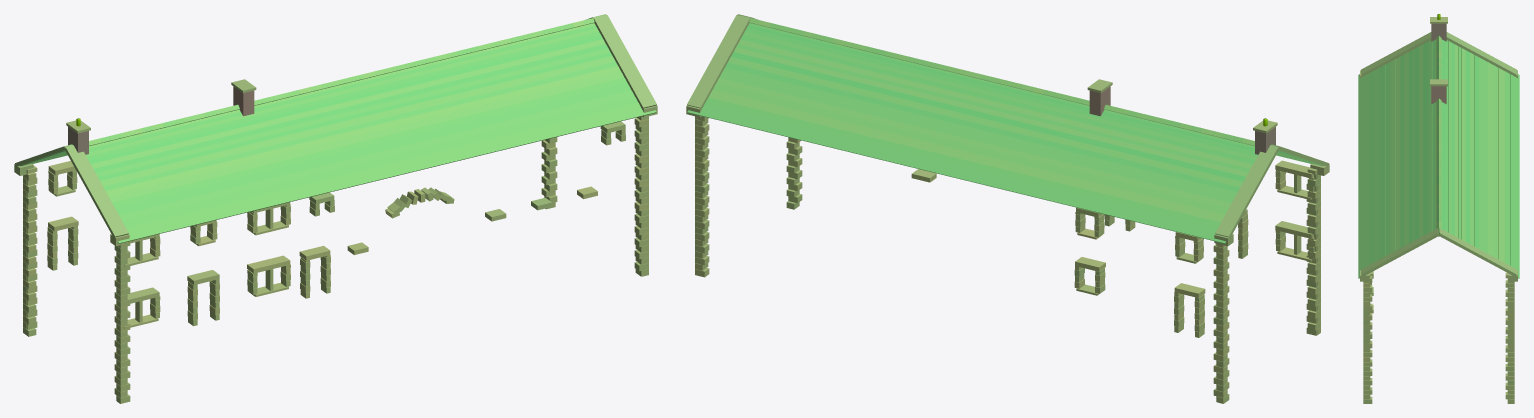
File: SM_Bld_207_Stone.glb
3 renders of one model, left to right at view 1: azimuth 30°, elevation 25°; view 2: azimuth 150°, elevation 25°; view 3: azimuth 270°, elevation 25°, orthographic. The views are drawn at different scales.
Visible parts, largest first — view 1: SM_Bld_207_Stone; view 2: SM_Bld_207_Stone; view 3: SM_Bld_207_Stone.
Boxes of the visible parts, <box> form: SM_Bld_207_Stone: <box>14,14,657,403</box>; SM_Bld_207_Stone: <box>686,14,1329,403</box>; SM_Bld_207_Stone: <box>1358,14,1519,403</box>.
Size of the model in its own units: 28.36 by 12.37 by 9.41.
